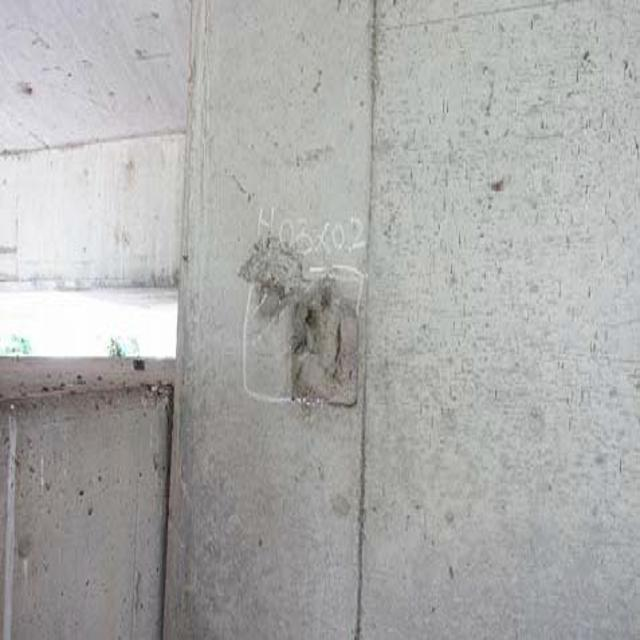spalling: (242, 207, 372, 409)
